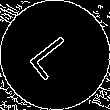L_NE: (26, 27, 84, 82)
